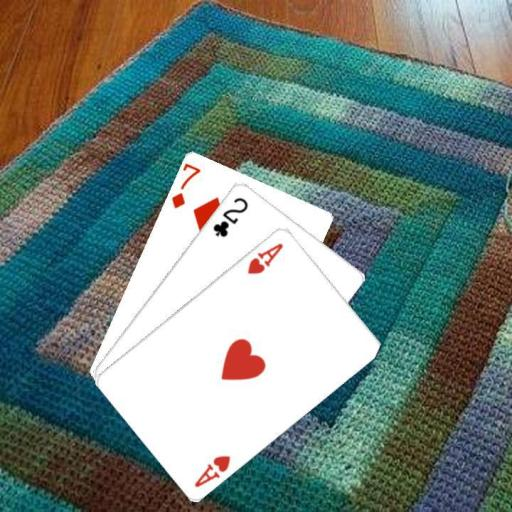2C: (209, 194, 250, 239)
7D: (168, 160, 203, 210)
AH: (244, 239, 285, 276), (191, 452, 232, 489)
